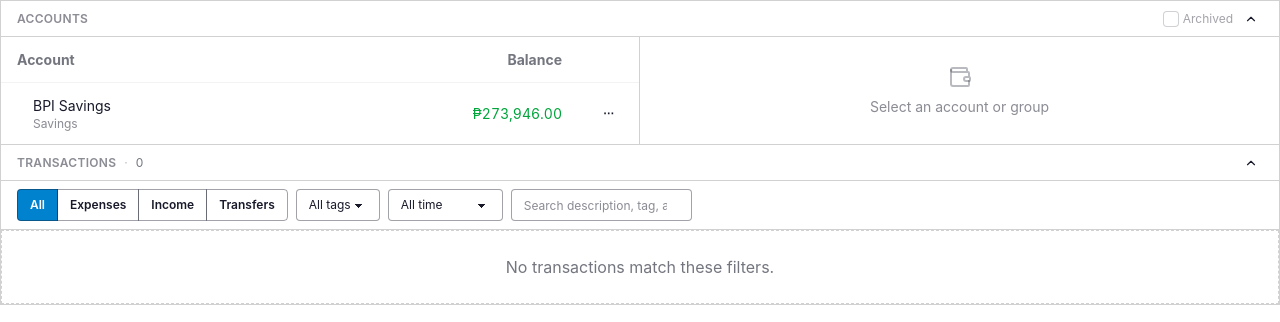
Test: AccountsPanel › expands accounts section when strip is clicked
The image size is (1280, 322).
Click the button named "fold accounts": (1251, 18) [1239,6,1263,30]
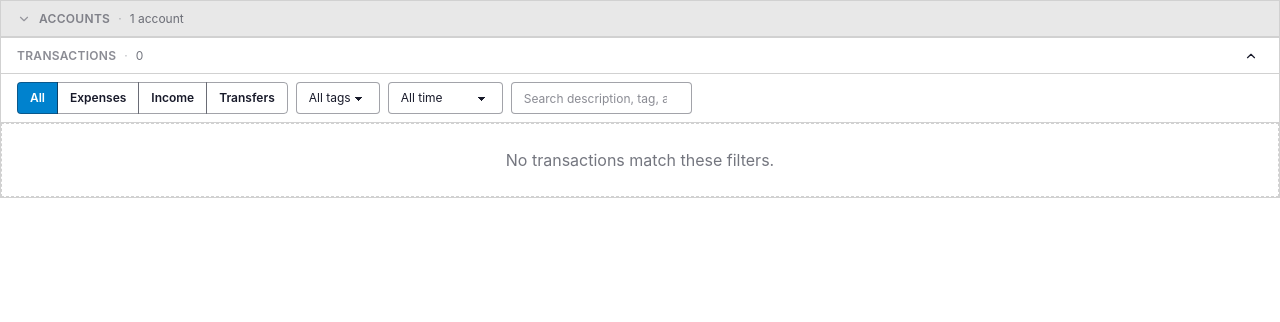
Click the button with aria-label "expand accounts": (75, 18) [1,1,1279,37]
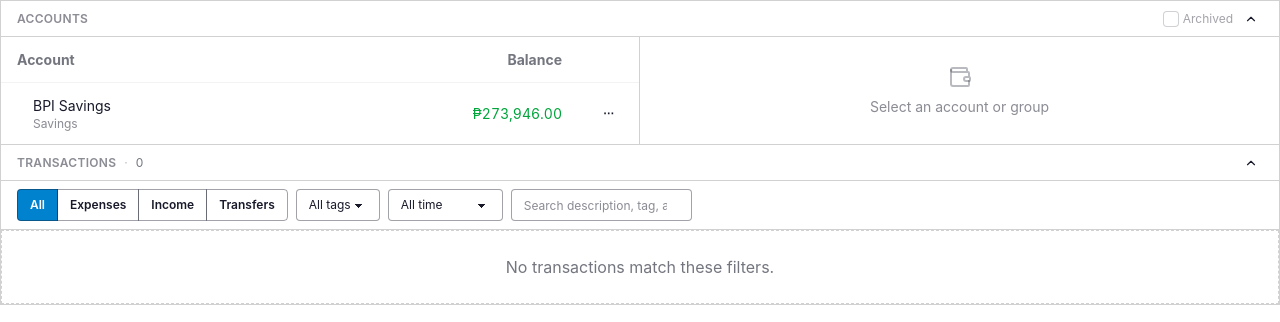
Now the button named "fold accounts" is shown, box [1239,6,1263,30]
